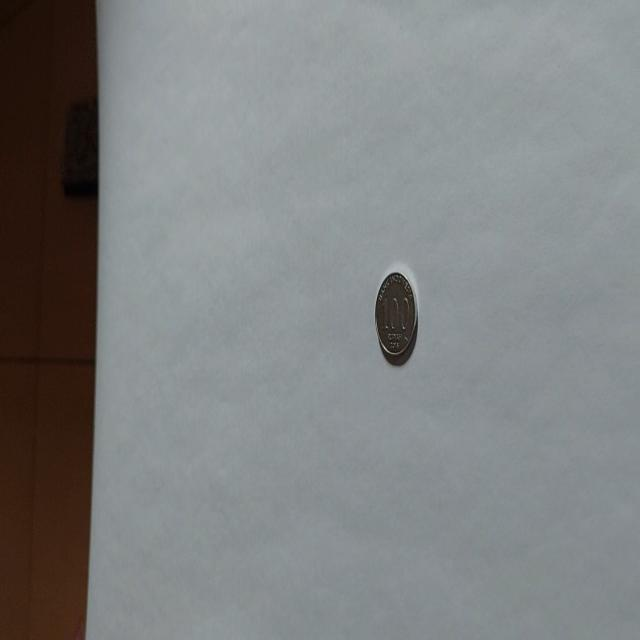seratus rupiah: (374, 270, 418, 366)
